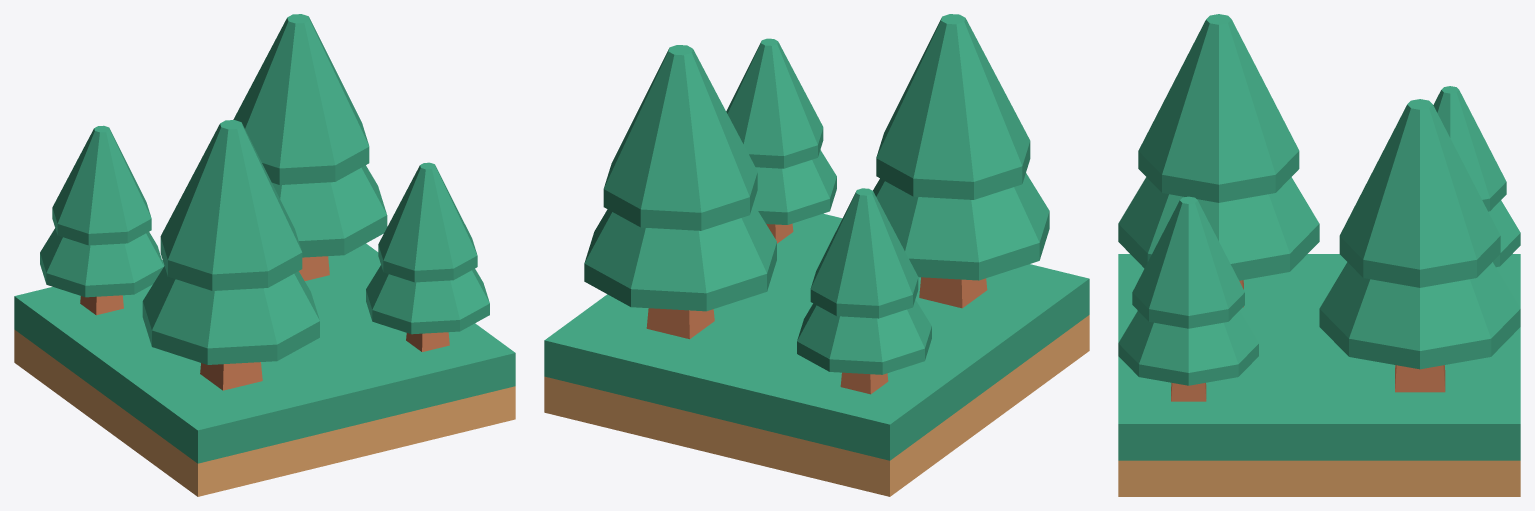
Rendered from tile_treeQuad.fbx.
The picture shows the model from 3 angles, left to right: view 1: azimuth 30°, elevation 25°; view 2: azimuth 150°, elevation 25°; view 3: azimuth 270°, elevation 25°; orthographic projection. The views are drawn at different scales.
Visible parts, largest first — view 1: tile_treeQuad, tree4, tree3, tree1, tree2; view 2: tile_treeQuad, tree3, tree4, tree2, tree1; view 3: tile_treeQuad, tree3, tree4, tree1, tree2.
Boxes of the visible parts, <box> form: tile_treeQuad: <box>14,243,515,496</box>; tree4: <box>142,120,319,390</box>; tree3: <box>233,14,387,280</box>; tree1: <box>366,162,489,351</box>; tree2: <box>40,125,163,315</box>; tile_treeQuad: <box>544,213,1089,496</box>; tree3: <box>584,45,776,339</box>; tree4: <box>873,14,1049,308</box>; tree2: <box>797,188,931,394</box>; tree1: <box>726,38,836,243</box>; tile_treeQuad: <box>1118,254,1520,496</box>; tree3: <box>1319,99,1520,392</box>; tree4: <box>1118,14,1319,307</box>; tree1: <box>1118,196,1258,401</box>; tree2: <box>1433,86,1520,267</box>.
Bounding box in the file's own units: 10 × 9.6 × 10.
